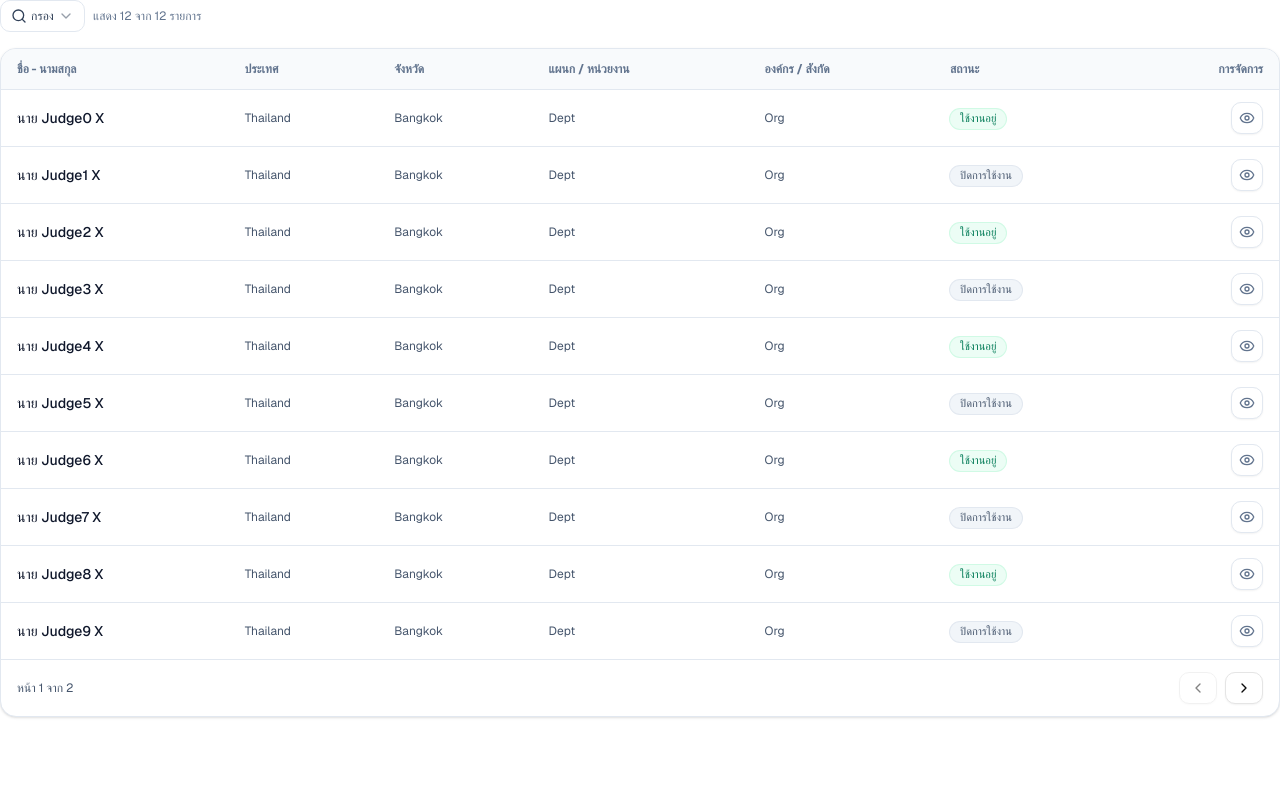
Test case: JudgesList › filters rows via the search box
This screenshot has width=1280, height=800.
Note: The filter panel is collapsed by default — open it to reveal the search box.
Click the button with aria-label "ค้นหาและกรองขั้นสูง" at (42, 16), box [0,0,85,32]
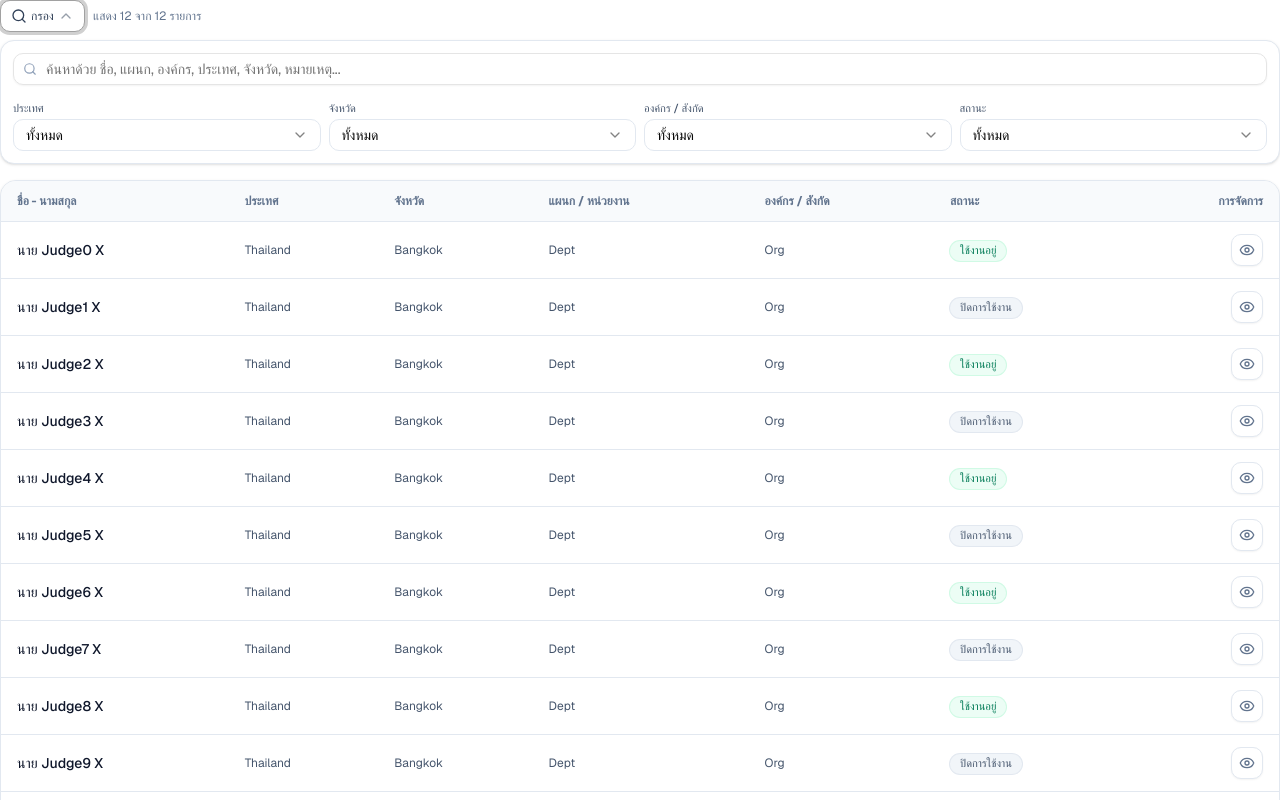
Type "Judge5" into the field with placeholder "ค้นหาด้วย ชื่อ, แผนก, องค์กร, ประเทศ, จังหวัด, หมายเหตุ..." at (640, 69), box [13,53,1267,85]
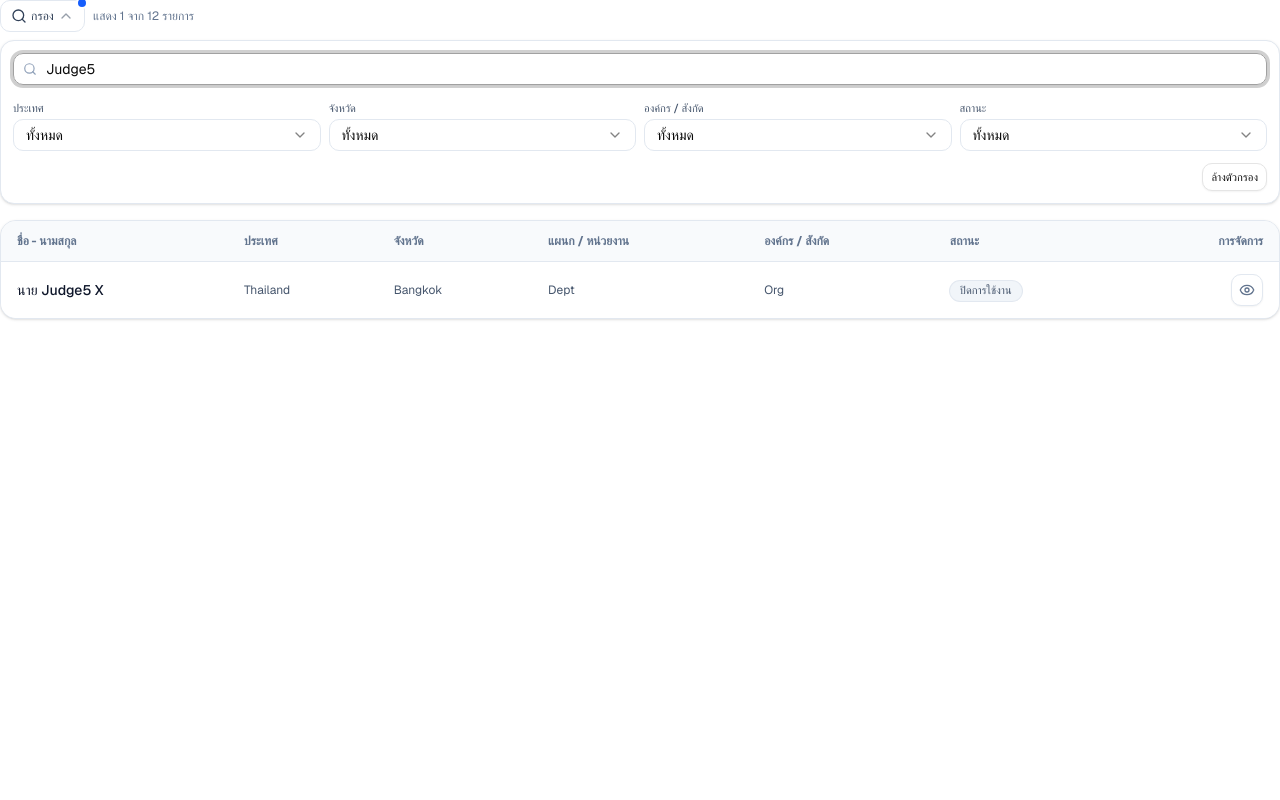
Expected: the text "นาย Judge5 X" is shown, [1,262,228,318]
Result: the text "Judge4" is gone
